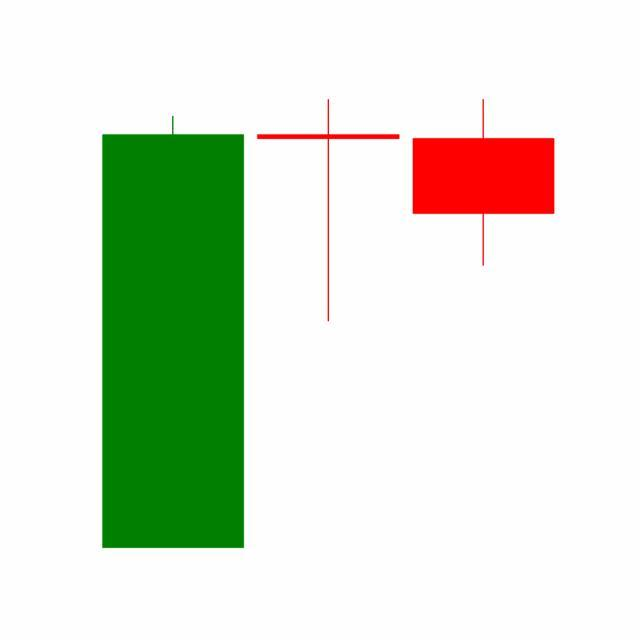Spinning Top: (250, 97, 407, 324)
